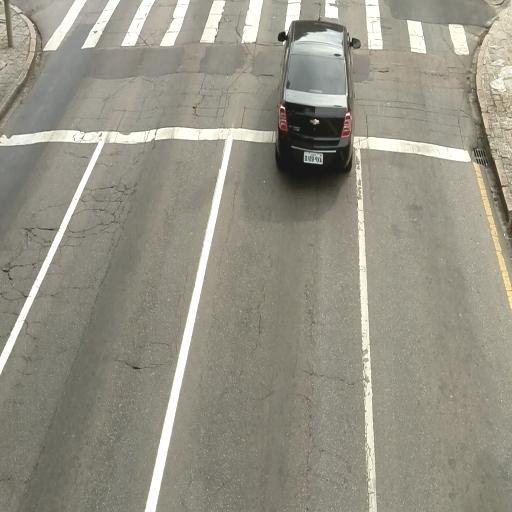car: (271, 20, 356, 178)
